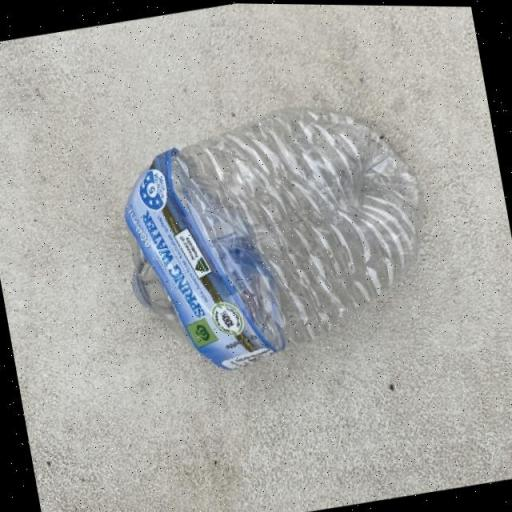plastic: (104, 82, 447, 387)
